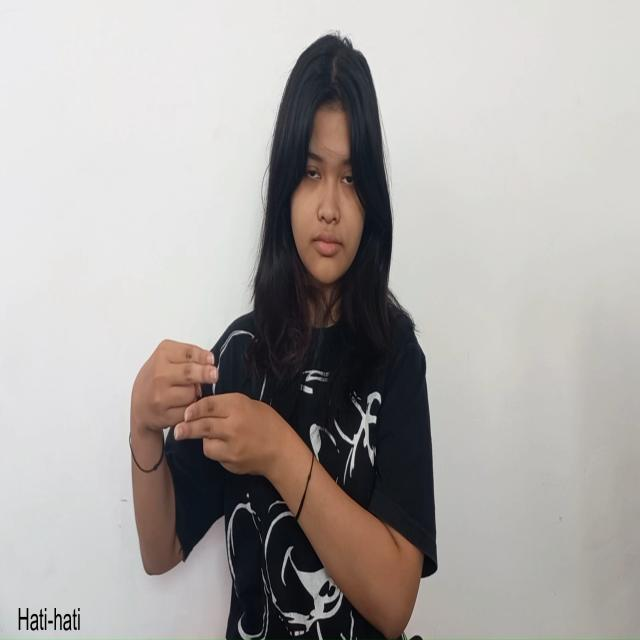Hati-hati -BISINDO-: (129, 336, 281, 478)
